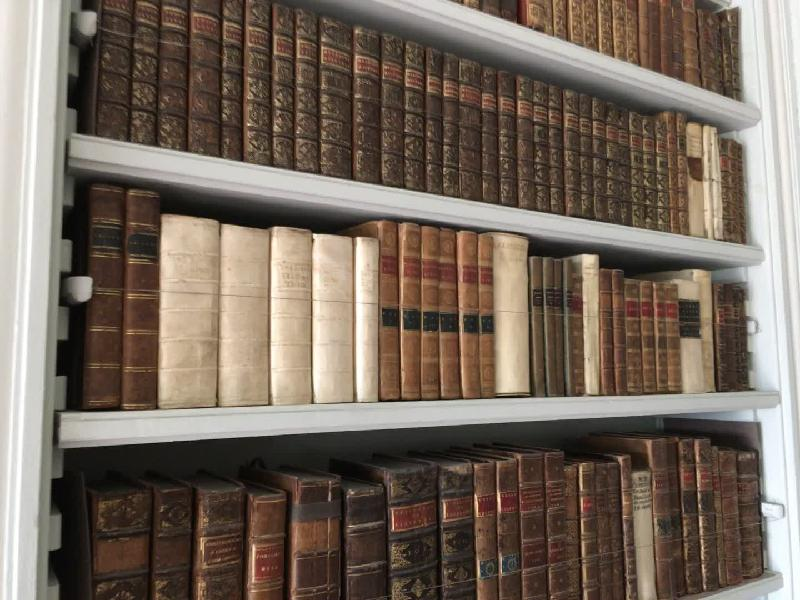Kk4-14: (496, 227, 529, 394)
Kk4-15_16: (531, 251, 557, 406)
Kk4-17_18: (558, 256, 575, 399)
Kk4-1_2: (86, 180, 157, 411)
Kk4-20: (582, 253, 601, 396)
Kk4-21_22: (603, 267, 626, 407)
Kk4-23_26: (626, 278, 679, 396)
Kk4-27: (680, 276, 703, 393)
Kk4-3_7: (162, 208, 379, 409)
Kk4-8_13: (380, 219, 494, 399)
